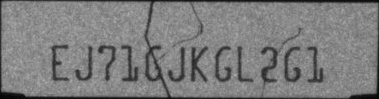1: (120, 44, 138, 81), (306, 45, 324, 82)
2: (259, 46, 279, 83)
7: (98, 44, 117, 81)
E: (50, 44, 69, 82)
G: (282, 45, 302, 82), (213, 45, 232, 81), (144, 45, 161, 81)
J: (167, 46, 186, 82), (75, 45, 93, 81)
K: (189, 46, 209, 83)
L: (236, 46, 253, 82)
